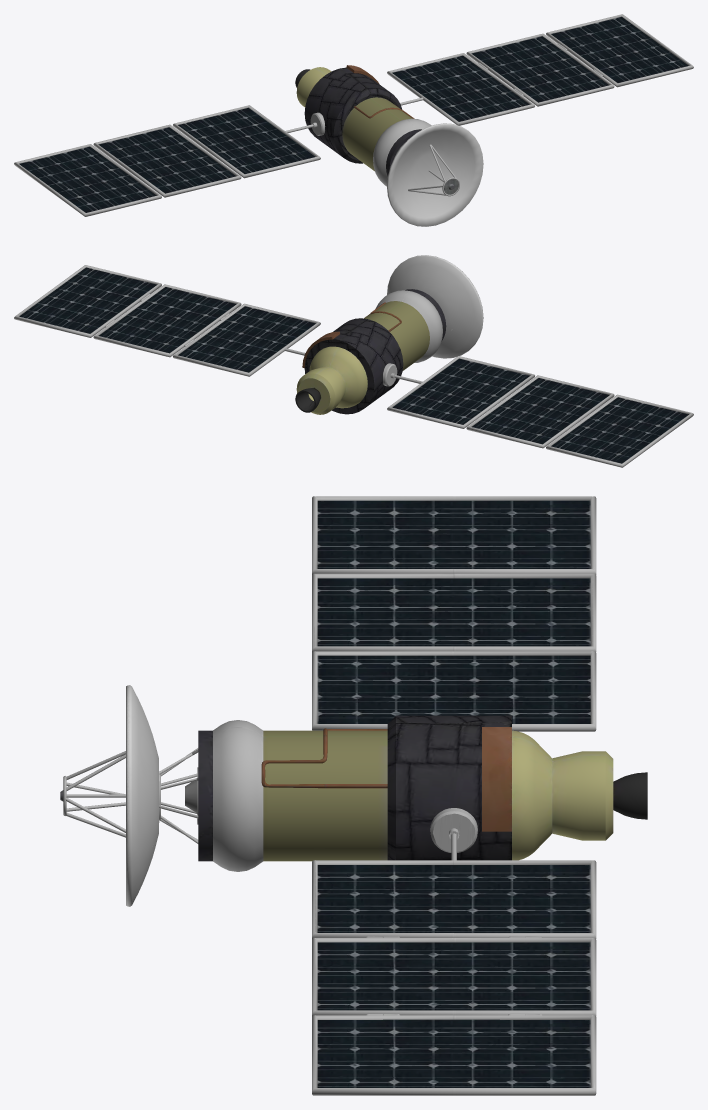
Rendered from satellite.glb.
3 renders of one model, top to bottom at view 1: azimuth 30°, elevation 25°; view 2: azimuth 150°, elevation 25°; view 3: azimuth 270°, elevation 25°, orthographic. The views are drawn at different scales.
Visible parts, largest first — view 1: satellite_satellite_0; view 2: satellite_satellite_0; view 3: satellite_satellite_0.
Boxes of the visible parts, box(x1,y1,x2,y2) form: satellite_satellite_0: box(14, 14, 693, 226); satellite_satellite_0: box(14, 255, 693, 467); satellite_satellite_0: box(60, 496, 647, 1095).
Bounding box in the file's own units: 10.73 × 1.69 × 4.48.
1 material, 1 textured.
